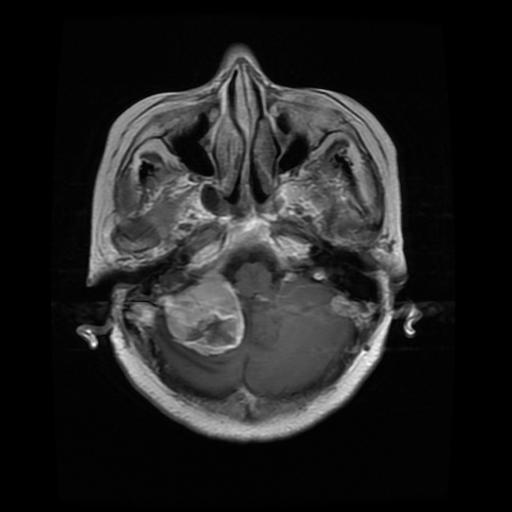Menigiomia_tumour: (153, 271, 245, 353)
